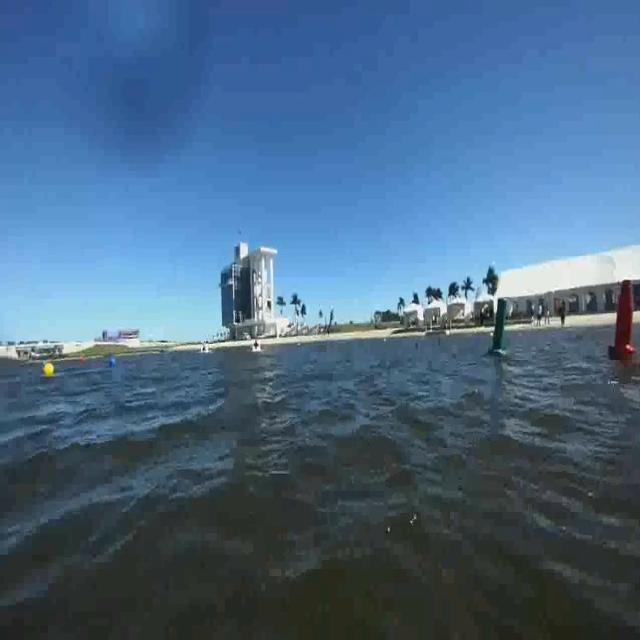blue-buoy: (108, 354, 116, 368)
green-column-buoy: (488, 296, 511, 358)
red-column-buoy: (610, 279, 638, 358)
yellow-buoy: (43, 360, 54, 378)
